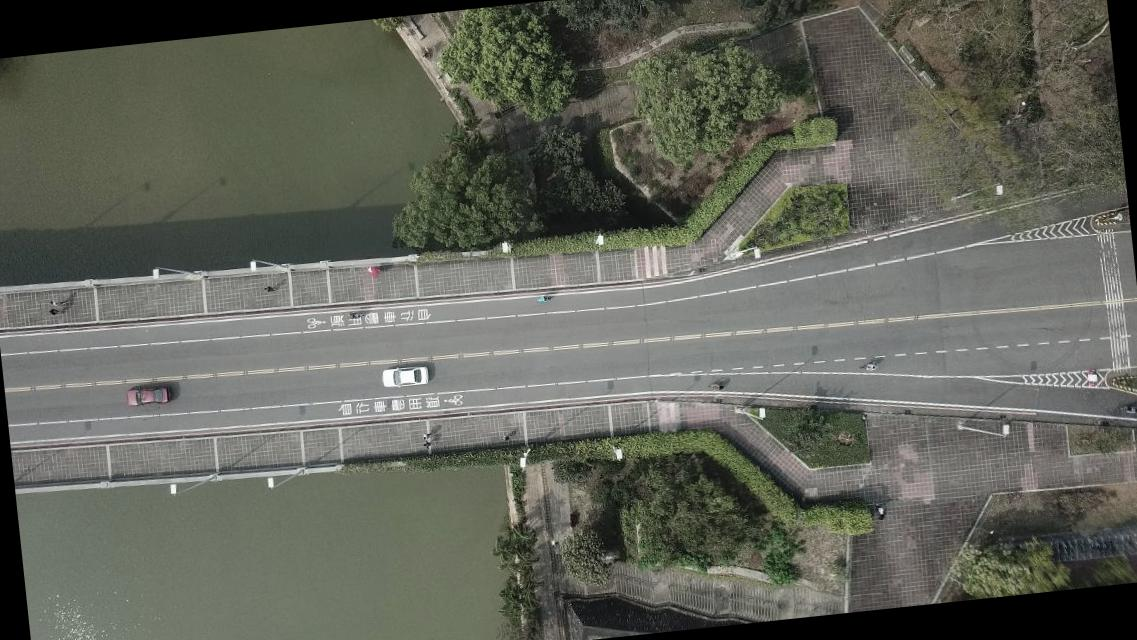vehicle: (382, 363, 429, 389), (126, 384, 172, 408)
